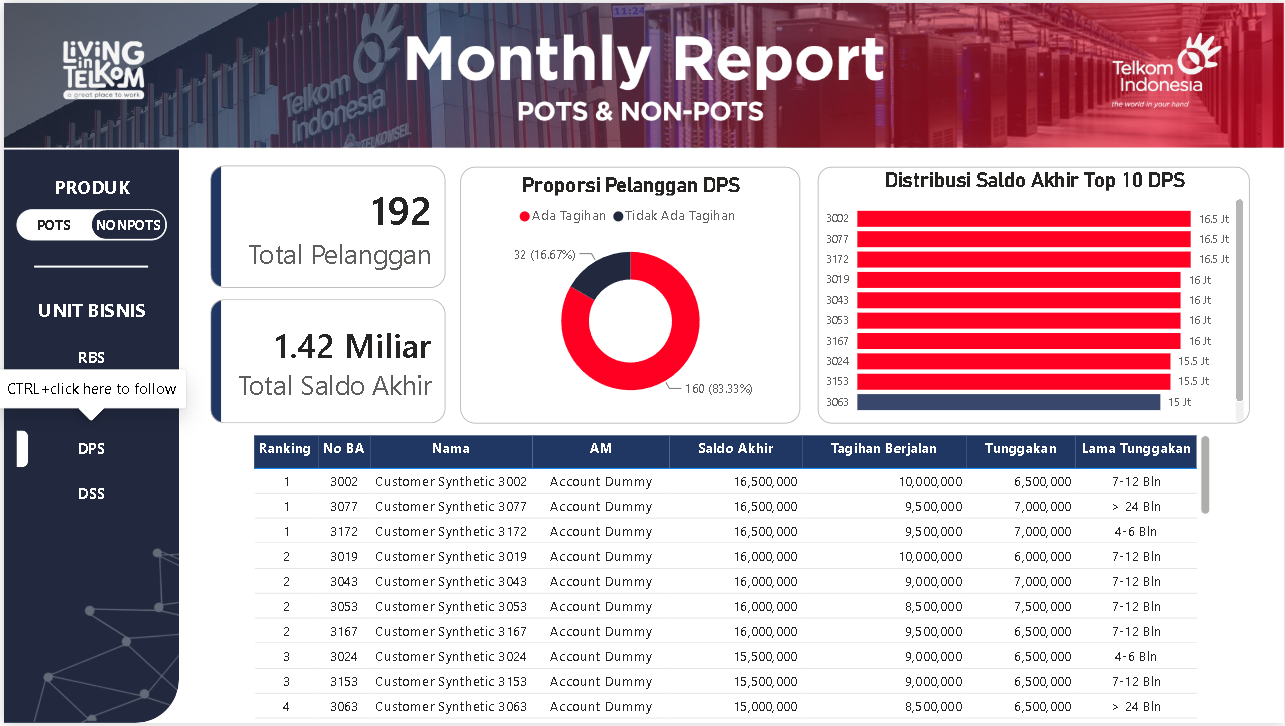

What the dashboard file says about the page in this screenshot:
{"tool":"powerbi","page":{"name":"NONPOTS","canvas":[1280,720],"ordinal":1},"visuals":[{"type":"shape","box":[0,146.2,175,573.8],"z":0},{"type":"image","box":[4.4,412.5,190,307.5],"z":1000},{"type":"pageNavigator","box":[12.1,206,150,31.4],"z":2000},{"type":"shape","box":[30,242.2,114.4,42.2],"z":3000},{"type":"textbox","box":[6.2,288.8,162.5,36.2],"z":4000},{"type":"textbox","box":[6.2,166.2,163.1,36.9],"z":5000},{"type":"actionButton","box":[12.6,330.9,150,45.7],"z":6000},{"type":"actionButton","box":[12.6,376.5,150,45.7],"z":7000},{"type":"actionButton","box":[12.7,422.3,150,45.7],"z":10000},{"type":"actionButton","box":[12.9,468.1,150,45.7],"z":12000},{"type":"shape","box":[12.9,472.4,12.4,36.7],"z":13000},{"type":"tableEx","title":"Tabel DSS","fields":{"Values":["NONPOTS.Ranking","NONPOTS.IDNumber","DETAIL NONPOTS.NAMA","DETAIL NONPOTS.AM","NONPOTS.Saldo Akhir","Sum(NONPOTS.Tagihan N)","NONPOTS.Tunggakan","NONPOTS.Lama Tunggakan"]},"box":[261.7,426.7,930,293.3],"z":21000},{"type":"donutChart","title":"Proporsi Pelanggan DSS","fields":{"Category":["NONPOTS.Kategori Saldo"],"Y":["CountNonNull(NONPOTS.Kategori Saldo)"]},"box":[456.9,163.1,340,256.7],"z":27000},{"type":"cardVisual","title":"Card Pelanggan DSS","fields":{"Data":["CountNonNull(NONPOTS.IDNumber)"]},"box":[206.9,162.3,235.7,122.9],"z":28000},{"type":"cardVisual","title":"Card Saldo DSS","fields":{"Data":["NONPOTS.DSS Total Saldo Akhir Display"]},"box":[206.9,296.2,235.7,124.3],"z":29000},{"type":"clusteredBarChart","title":"Distribusi Saldo Akhir Top 10 DSS","fields":{"Category":["NONPOTS.IDNumber"],"Y":["Sum(NONPOTS.Saldo Akhir)"]},"box":[813.1,163.1,432.3,256.9],"z":30000}]}

Visuals, with their boxes in screenshot pixels (x1, y1, x2, y2), scaled from the page's 1280x720 canvas onto the 1285x726 screenshot:
shape: l=0, t=147, r=176, b=725
image: l=4, t=416, r=195, b=725
pageNavigator: l=12, t=208, r=163, b=239
shape: l=30, t=244, r=145, b=287
textbox: l=6, t=291, r=169, b=328
textbox: l=6, t=168, r=170, b=205
actionButton: l=13, t=334, r=163, b=380
actionButton: l=13, t=380, r=163, b=426
actionButton: l=13, t=426, r=163, b=472
actionButton: l=13, t=472, r=164, b=518
shape: l=13, t=476, r=25, b=513
"Tabel DSS" tableEx: l=263, t=430, r=1196, b=725
"Proporsi Pelanggan DSS" donutChart: l=459, t=164, r=800, b=423
"Card Pelanggan DSS" cardVisual: l=208, t=164, r=444, b=288
"Card Saldo DSS" cardVisual: l=208, t=299, r=444, b=424
"Distribusi Saldo Akhir Top 10 DSS" clusteredBarChart: l=816, t=164, r=1250, b=424
